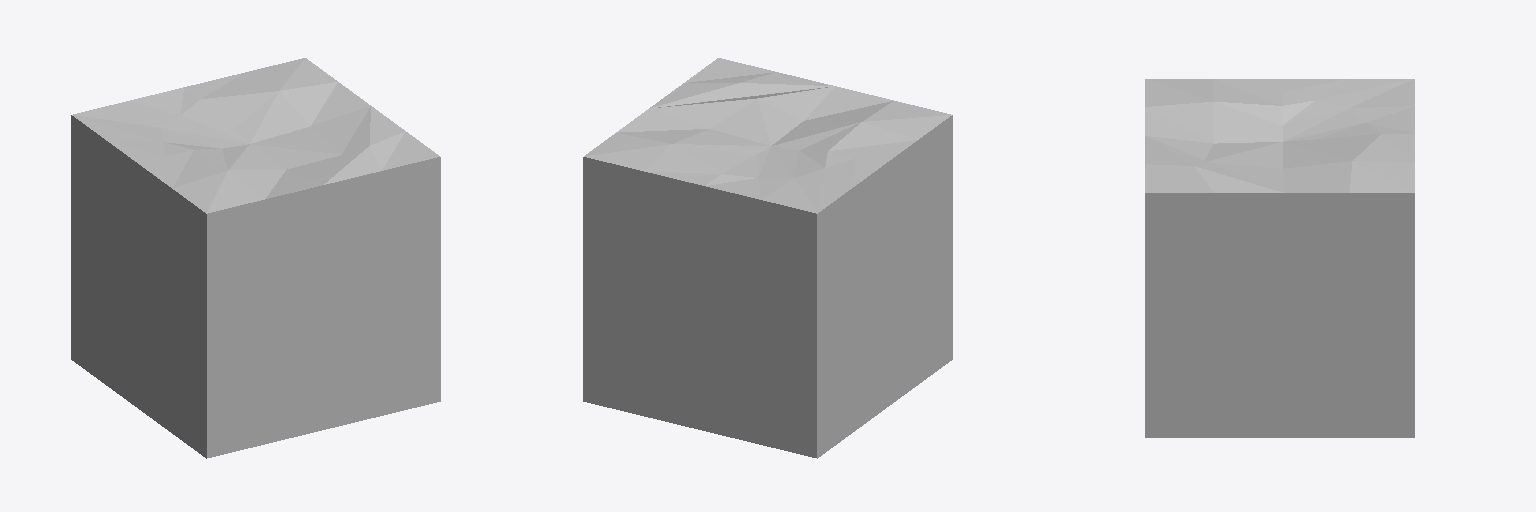
File: field.820a5de2.obj
The picture shows the model from 3 angles: view 1: azimuth 30°, elevation 25°; view 2: azimuth 150°, elevation 25°; view 3: azimuth 270°, elevation 25°; orthographic projection.
Parts seen in each view (by area): view 1: grass_Cube; view 2: grass_Cube; view 3: grass_Cube.
Boxes of the visible parts, <box> form: grass_Cube: <box>71,58,440,458</box>; grass_Cube: <box>583,58,952,458</box>; grass_Cube: <box>1145,79,1414,437</box>.
Bounding box in the file's own units: 2 × 2.04 × 2.